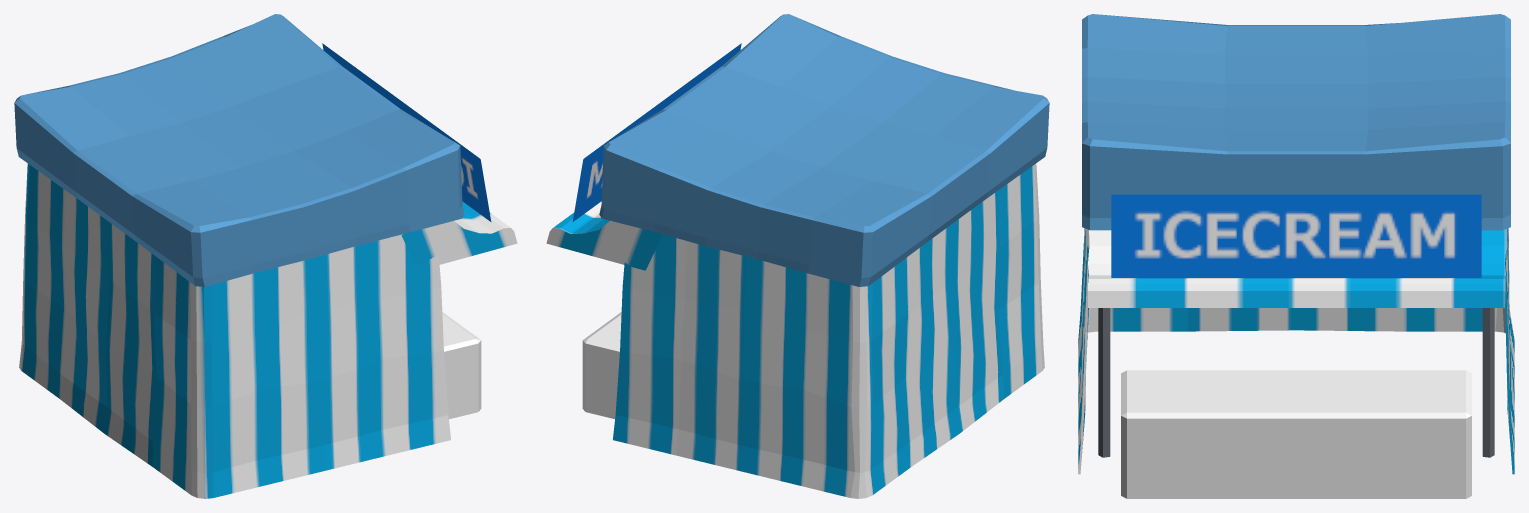
Rendered from rowyatai5.fbx.
3 renders of one model, left to right at view 1: azimuth 30°, elevation 25°; view 2: azimuth 150°, elevation 25°; view 3: azimuth 270°, elevation 25°, orthographic. The views are drawn at different scales.
Parts seen in each view (by area): view 1: 立方体, Cube, Cube.001, 立方体.001, 平面; view 2: 立方体, Cube, Cube.001, 立方体.001, 平面; view 3: Cube, 立方体.001, 平面, Cube.001, 立方体, 円柱.
Part boxes in pixels (x1,y1,x2,y2): 立方体: (19,163,450,498); Cube: (14,14,464,286); Cube.001: (401,201,517,267); 立方体.001: (442,312,481,419); 平面: (322,43,491,221); 立方体: (613,163,1044,498); Cube: (599,14,1049,286); Cube.001: (546,201,662,270); 立方体.001: (582,312,621,419); 平面: (572,43,741,221); Cube: (1082,14,1510,230); 立方体.001: (1121,370,1471,498); 平面: (1111,194,1481,277); Cube.001: (1088,229,1506,307); 立方体: (1078,228,1514,474); 円柱: (1098,308,1494,457).
Bounding box in the file's own units: 133 × 114 × 132.
